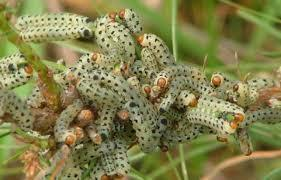insect: (123, 96, 160, 161), (73, 77, 129, 108), (136, 34, 179, 70), (0, 91, 35, 134), (51, 99, 81, 147), (54, 50, 98, 82), (186, 111, 237, 138), (159, 126, 204, 156), (92, 20, 121, 66), (154, 64, 202, 89), (17, 28, 95, 43), (14, 12, 89, 27), (40, 144, 71, 180), (94, 87, 113, 141), (0, 65, 34, 94), (239, 107, 281, 129), (118, 6, 146, 36), (114, 135, 131, 177), (0, 52, 30, 74), (245, 74, 281, 92), (209, 70, 233, 90), (234, 79, 250, 107)
